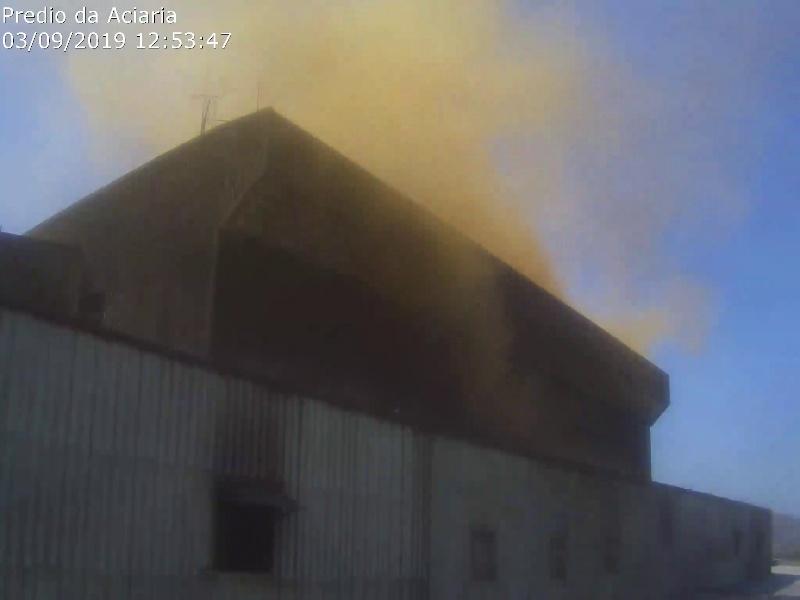pessimo: (97, 2, 678, 389)
